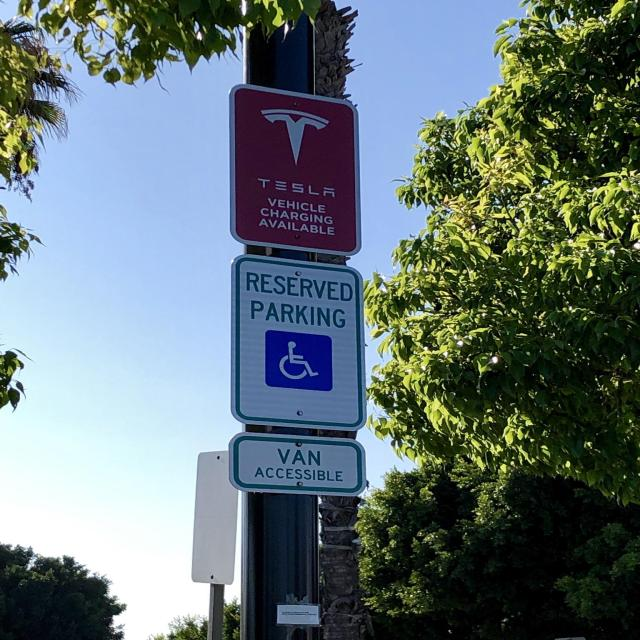car-handicap-placard: (267, 335, 330, 387)
